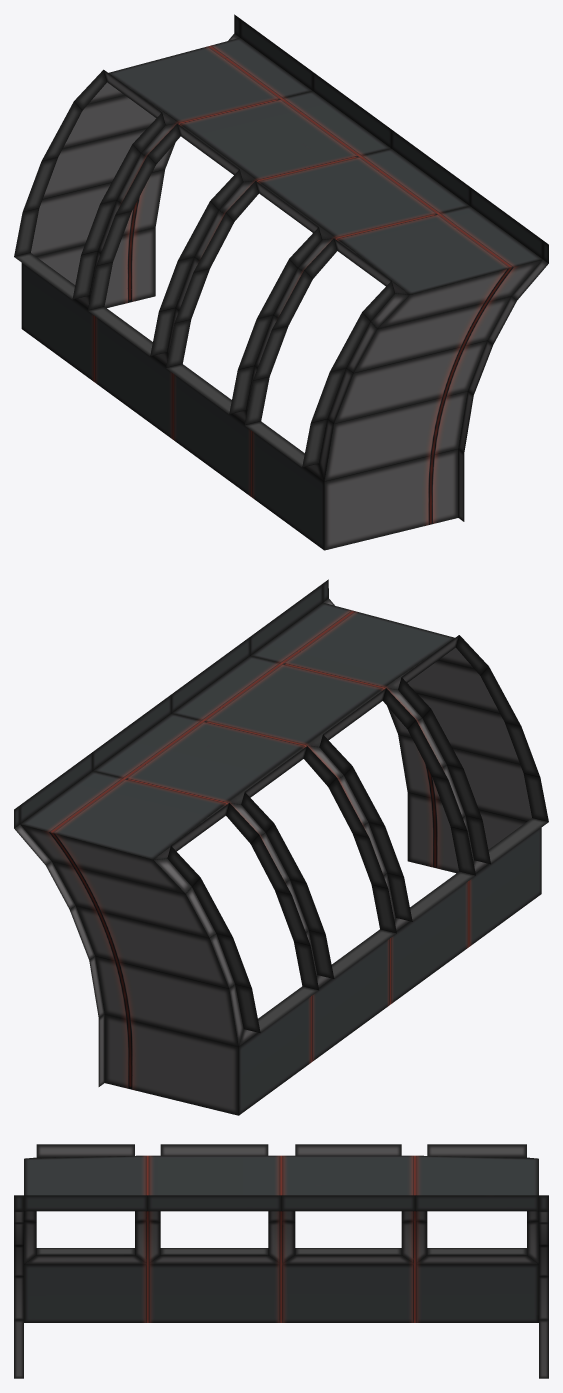
Rendered from Window.fbx.
3 renders of one model, top to bottom at view 1: azimuth 30°, elevation 25°; view 2: azimuth 150°, elevation 25°; view 3: azimuth 270°, elevation 25°, orthographic. The views are drawn at different scales.
Parts seen in each view (by area): view 1: pCube33; view 2: pCube33; view 3: pCube33.
Boxes of the visible parts, x1,y1,x2,y2 form: pCube33: [14, 14, 548, 550]; pCube33: [14, 579, 548, 1115]; pCube33: [14, 1144, 548, 1378].
Size of the model in its own units: 1.45 by 1.52 by 3.38.
